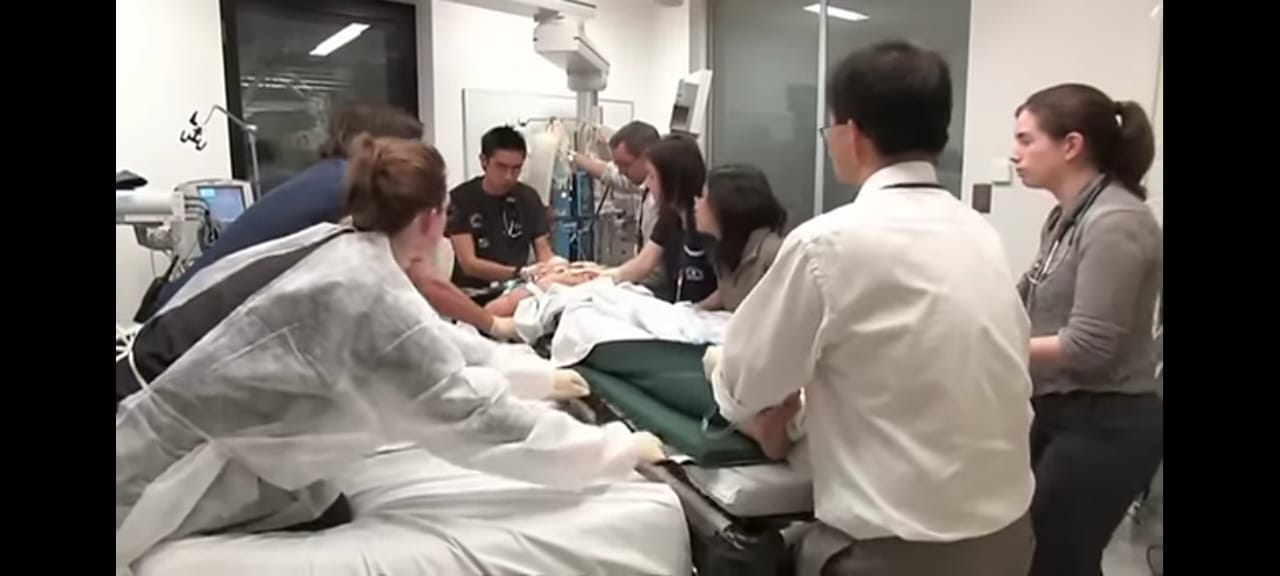doctor: (710, 40, 1038, 572), (114, 141, 456, 505), (992, 72, 1159, 565), (443, 117, 570, 287), (689, 165, 795, 291), (638, 134, 703, 284), (600, 124, 651, 186)
patient: (481, 251, 785, 463)
